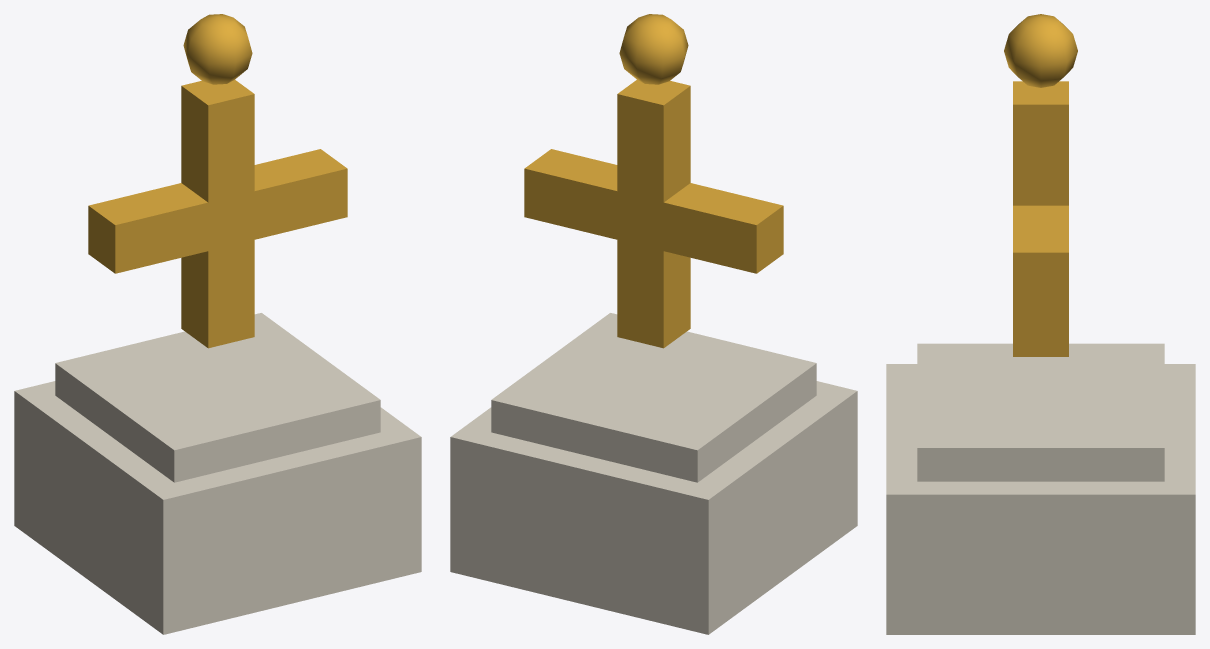
File: math_statue.glb
3 renders of one model, left to right at view 1: azimuth 30°, elevation 25°; view 2: azimuth 150°, elevation 25°; view 3: azimuth 270°, elevation 25°, orthographic. The views are drawn at different scales.
Visible parts, largest first — view 1: math_statue_mesh; view 2: math_statue_mesh; view 3: math_statue_mesh.
Boxes of the visible parts, x1,y1,x2,y2 form: math_statue_mesh: (14,14,421,634); math_statue_mesh: (450,14,857,634); math_statue_mesh: (886,14,1195,634).
Bounding box in the file's own units: 1 × 1.97 × 1.
